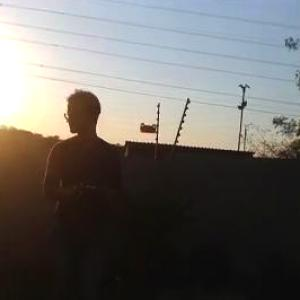follow: (40, 84, 130, 299)
